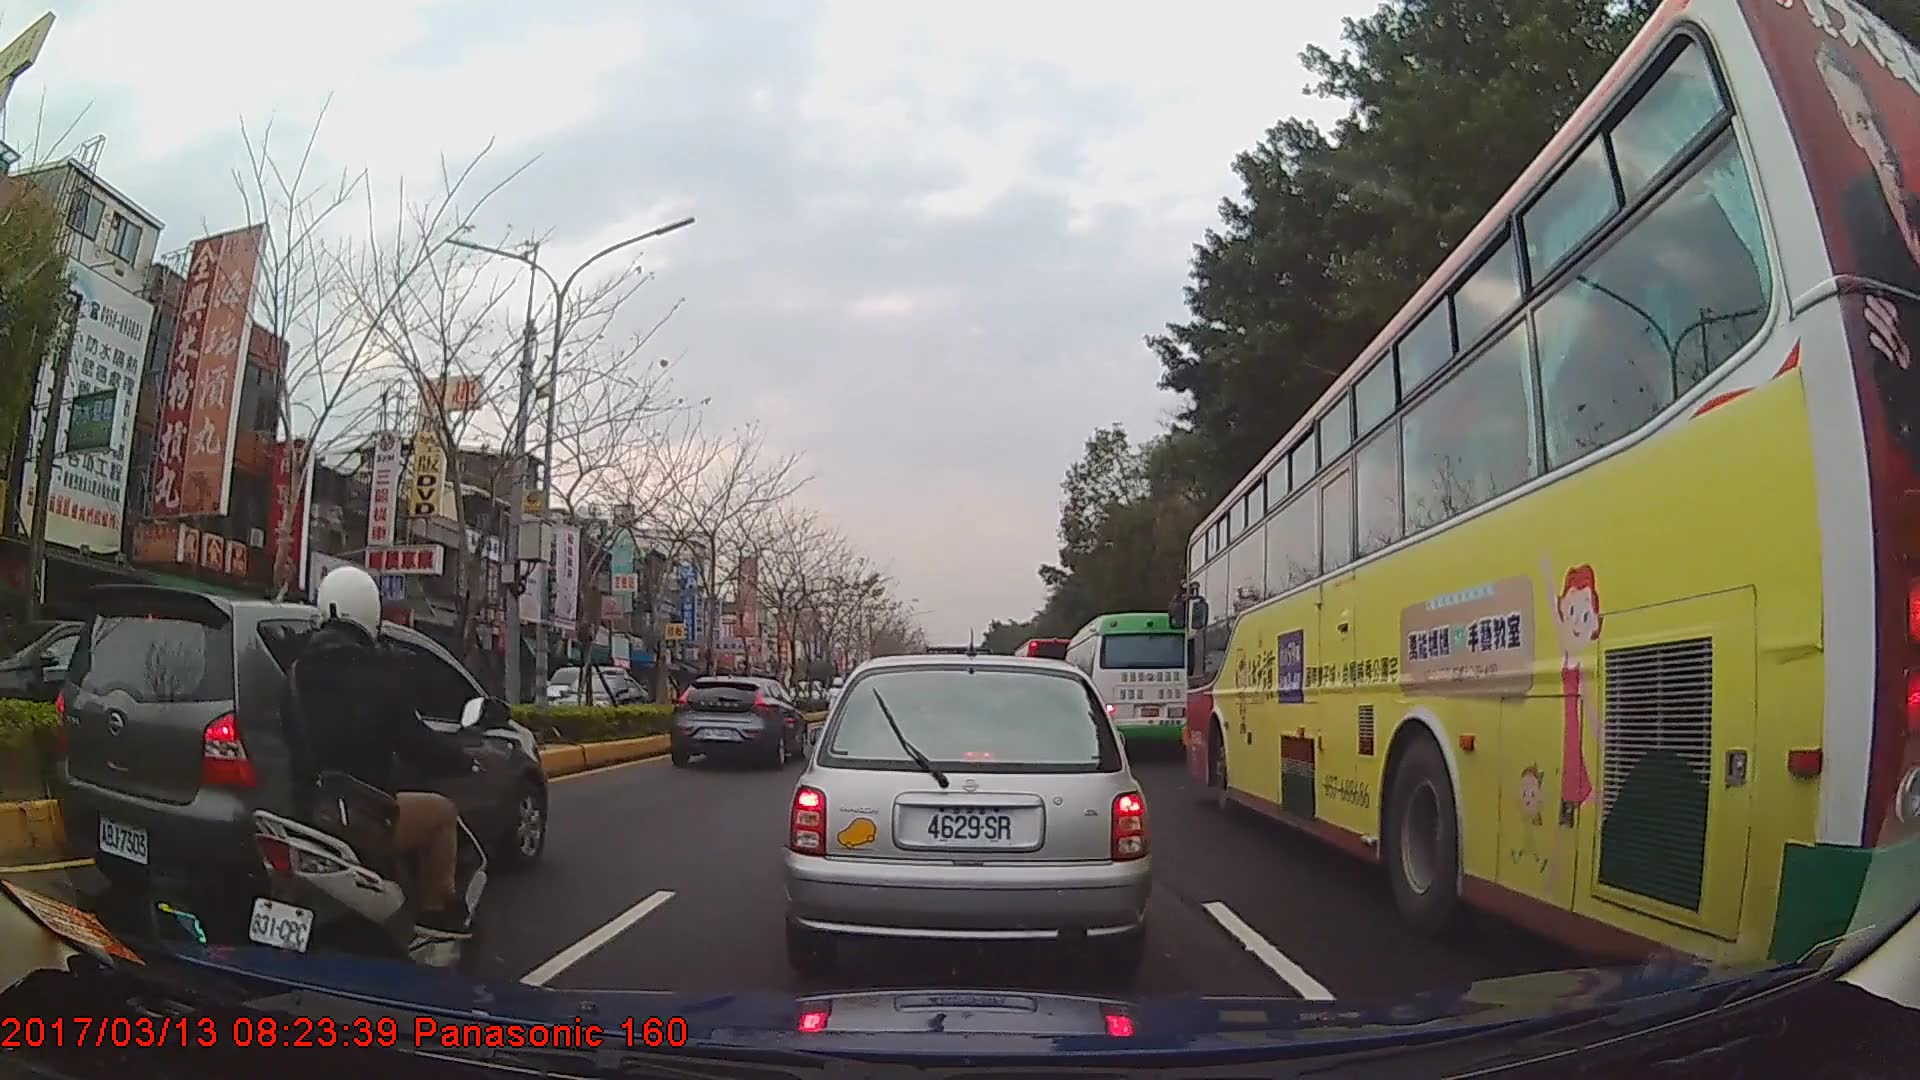rider: (253, 562, 490, 983), (824, 676, 851, 736)
vehicle: (1185, 0, 1920, 977), (56, 582, 545, 935), (784, 652, 1153, 981), (0, 602, 266, 788), (1061, 611, 1196, 761), (666, 672, 806, 774), (546, 673, 648, 730)
